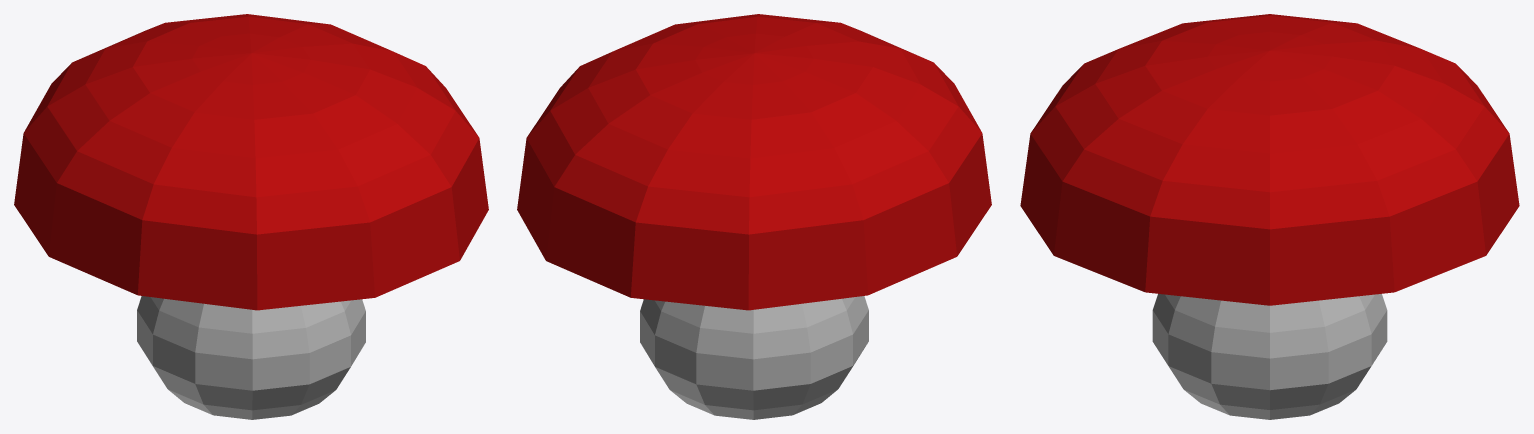
3 renders of one model, left to right at view 1: azimuth 30°, elevation 25°; view 2: azimuth 150°, elevation 25°; view 3: azimuth 270°, elevation 25°, orthographic.
Visible parts, largest first — view 1: cap_band, stem_band; view 2: cap_band, stem_band; view 3: cap_band, stem_band.
Part boxes in pixels (x1,y1,x2,y2): cap_band: [14, 14, 488, 310]; stem_band: [137, 296, 365, 419]; cap_band: [517, 14, 991, 310]; stem_band: [640, 296, 868, 419]; cap_band: [1020, 14, 1519, 305]; stem_band: [1152, 294, 1387, 419].
Size of the model in its own units: 0.0946 by 0.0769 by 0.1.
